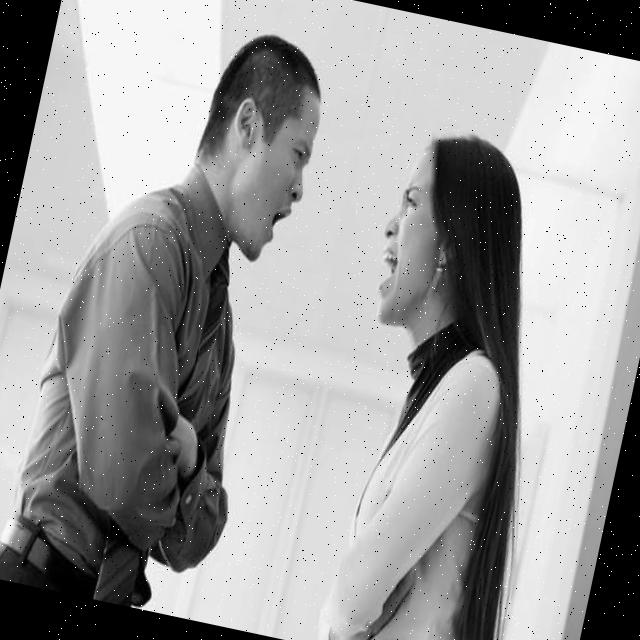Angry: (217, 80, 323, 270), (364, 144, 460, 334)
